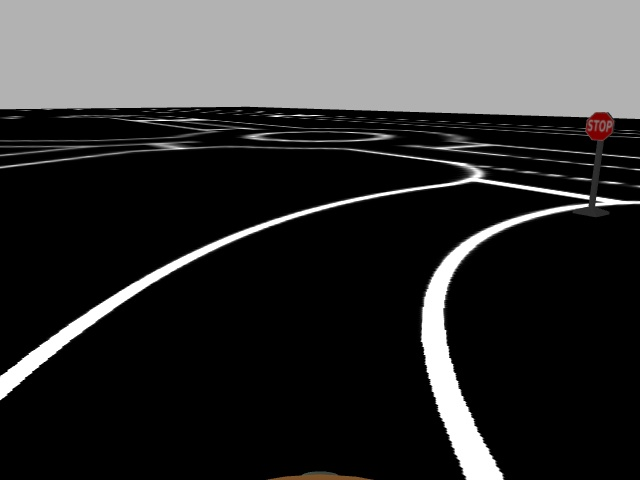stop: (584, 111, 615, 142)
